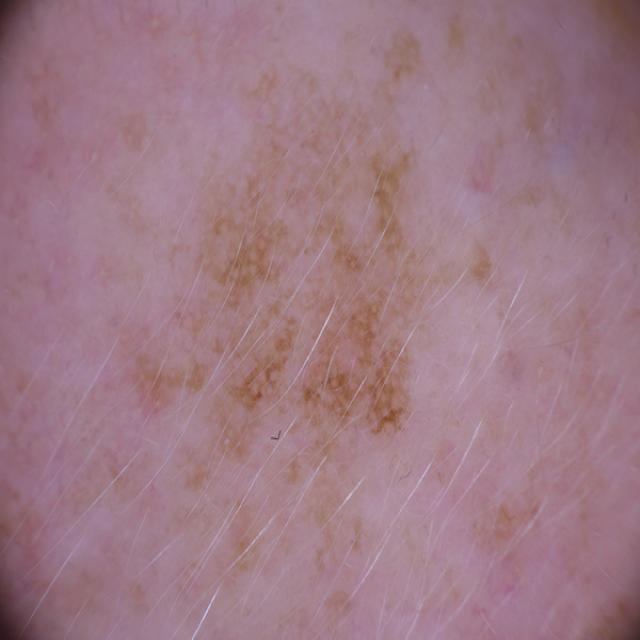Skin-Cancer Pigmented benign keratosis: (18, 14, 640, 603)
